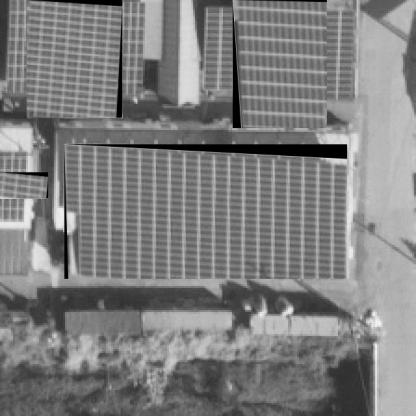solar-pv-panel: (66, 145, 347, 279), (236, 0, 327, 128), (27, 0, 122, 118), (0, 173, 48, 198)
